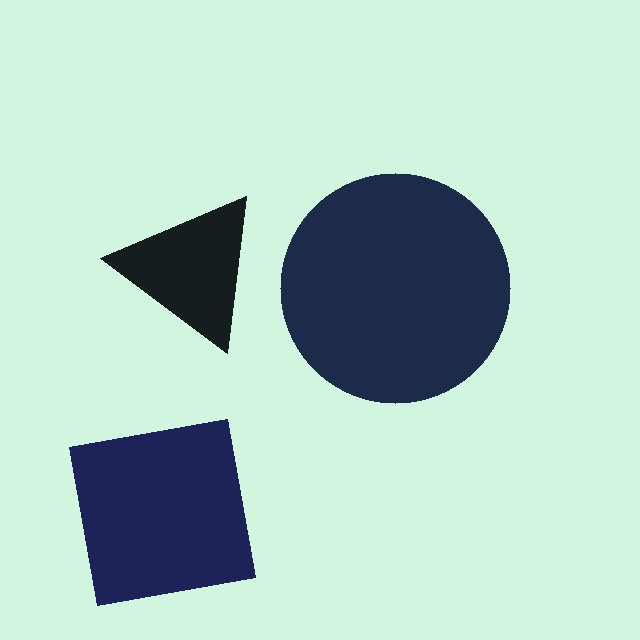circle: (280, 172, 511, 404)
square: (69, 419, 255, 605)
triangle: (100, 195, 247, 353)
